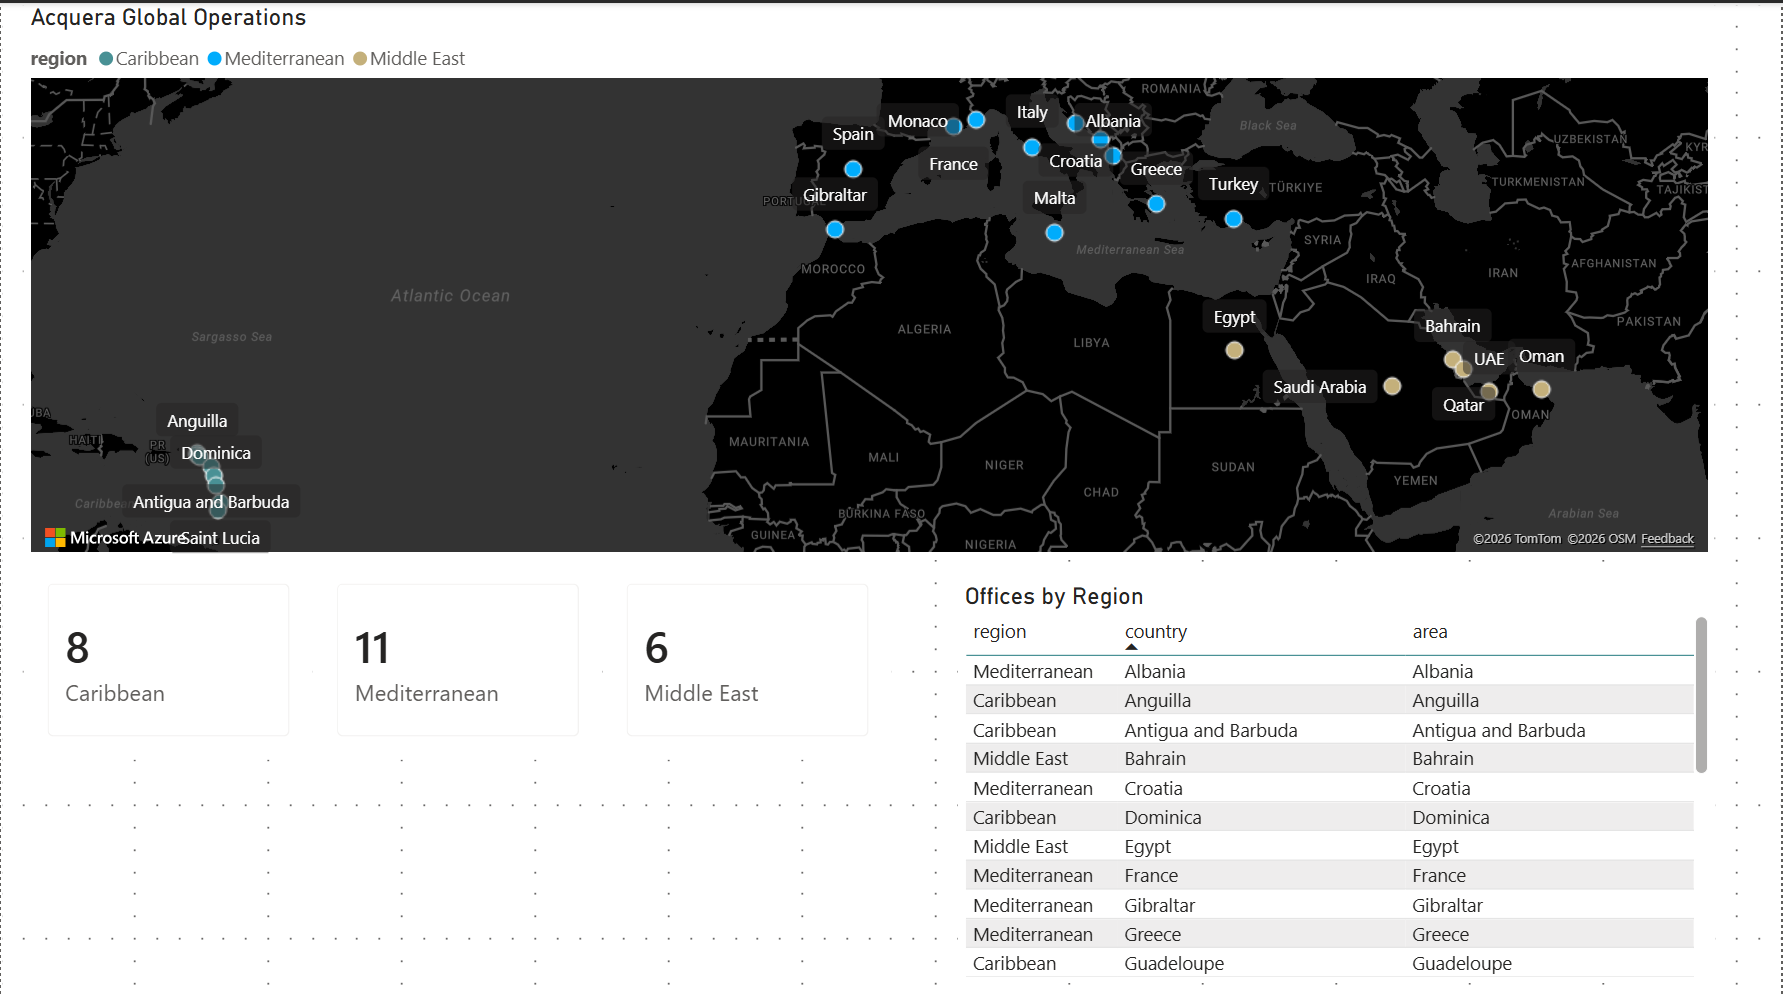

The page's visual inventory and layout, read from the dashboard file:
{"tool":"powerbi","page":{"name":"Global Presence","canvas":[1280,720],"ordinal":3},"visuals":[{"type":"azureMap","title":"Acquera Global Operations","fields":{"Category":["public acquera_locations.country"],"Y":["Sum(public acquera_locations.latitude)"],"X":["Sum(public acquera_locations.longitude)"],"Series":["public acquera_locations.region"],"Size":["CountNonNull(public acquera_locations.location_id)"]},"box":[16,0,1216,400],"z":0},{"type":"cardVisual","fields":{"Data":["CountNonNull(public acquera_locations.location_id)"]},"box":[16,400,208,144],"z":1000},{"type":"tableEx","title":"Offices by Region","fields":{"Values":["public acquera_locations.region","public acquera_locations.country","public acquera_locations.area"]},"box":[688,416,544,288],"z":2000},{"type":"cardVisual","fields":{"Data":["CountNonNull(public acquera_locations.location_id)"]},"box":[224,400,208,144],"z":3000},{"type":"cardVisual","fields":{"Data":["CountNonNull(public acquera_locations.location_id)"]},"box":[432,400,208,144],"z":4000}]}

Visuals, with their boxes in screenshot pixels (x1, y1, x2, y2), scaled from the page's 1280x720 canvas onto the 1783x996 screenshot:
"Acquera Global Operations" azureMap: crop(22, 0, 1716, 553)
cardVisual - CountNonNull(public acquera_locations.location_id): crop(22, 553, 312, 753)
"Offices by Region" tableEx: crop(958, 575, 1716, 974)
cardVisual - CountNonNull(public acquera_locations.location_id): crop(312, 553, 602, 753)
cardVisual - CountNonNull(public acquera_locations.location_id): crop(602, 553, 892, 753)
